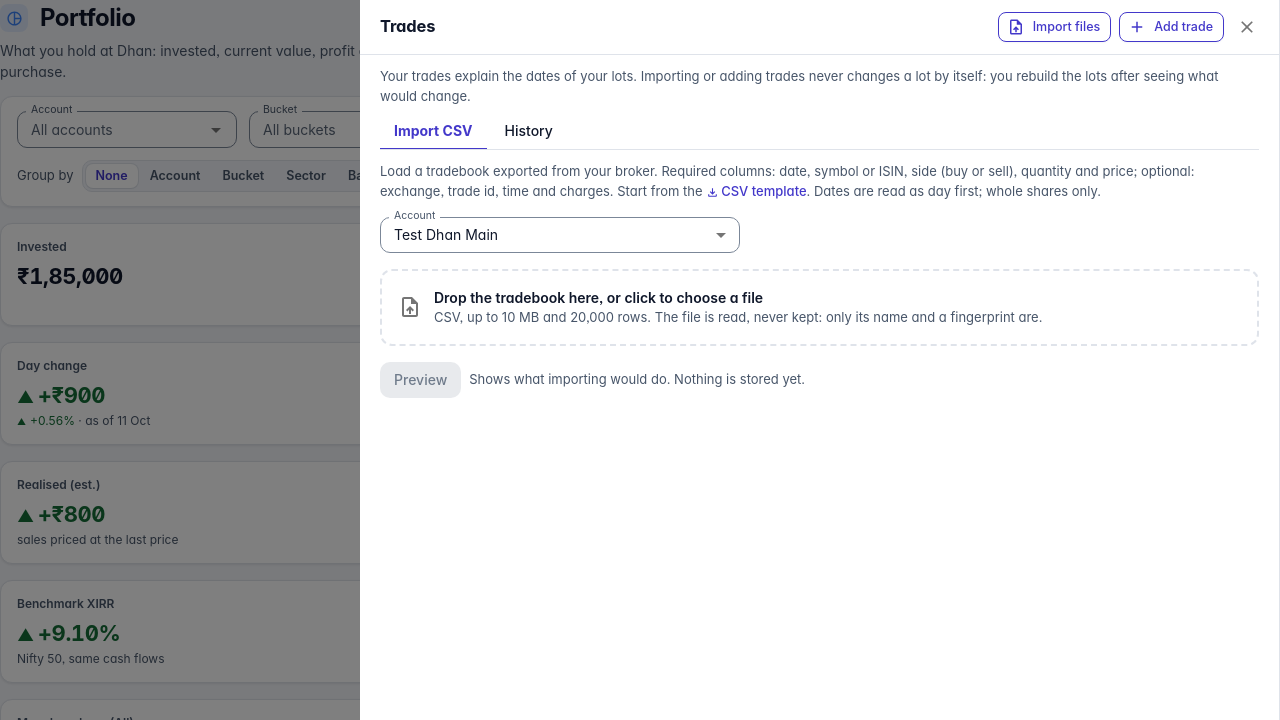
Scenario: Add trade: the form › says what is missing, field by field, and puts the keyboard on the first one
Click the button "Add trade".
click(1172, 27)  # box top-left (1119, 12), bottom-right (1224, 42)
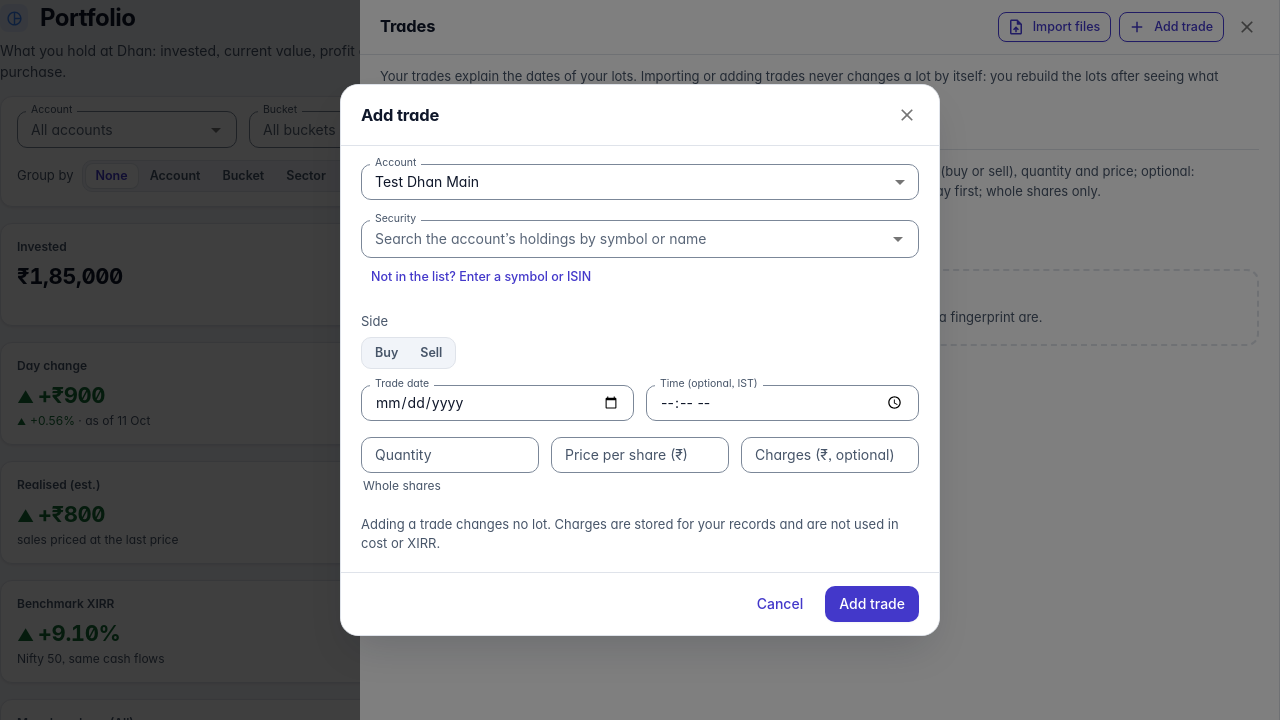
Click the button "Add trade".
click(872, 604)  # box top-left (825, 586), bottom-right (919, 622)
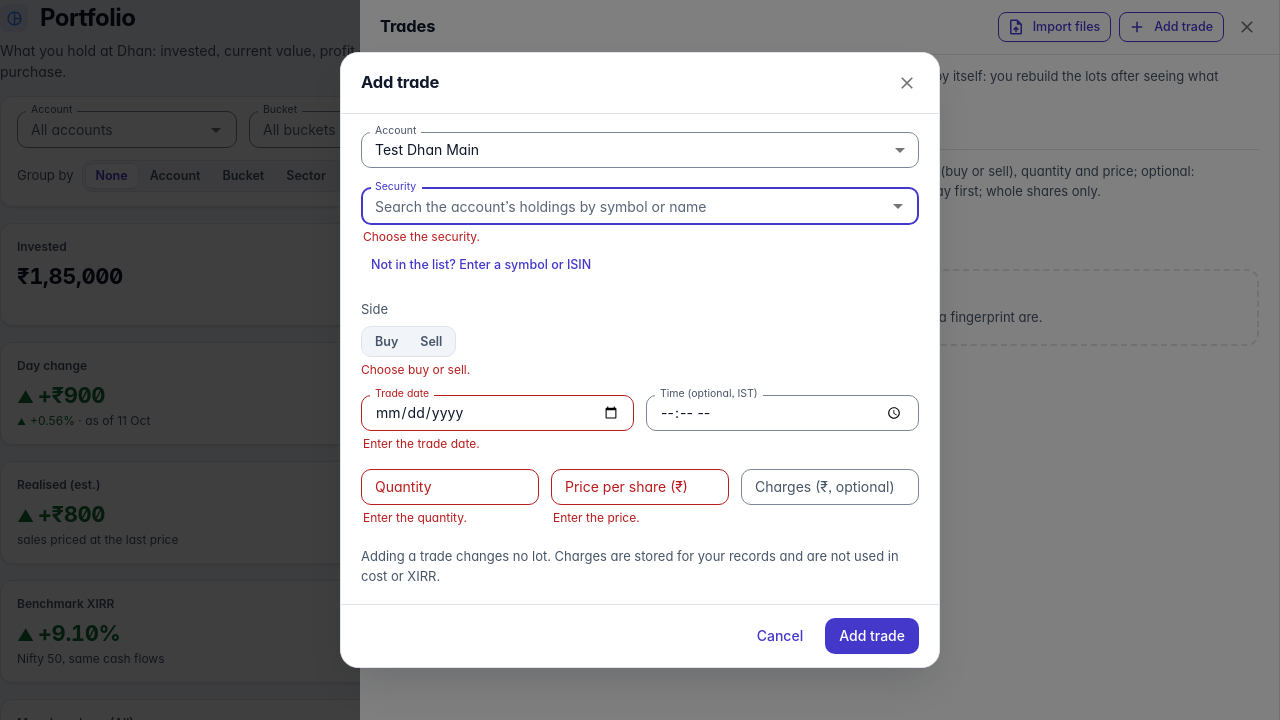
Check: the text "Choose the security." is shown, box top-left (363, 229), bottom-right (480, 244)
Check: the text "Choose buy or sell." is shown, box top-left (361, 362), bottom-right (470, 377)
Check: the text "Enter the trade date." is shown, box top-left (363, 436), bottom-right (480, 451)
